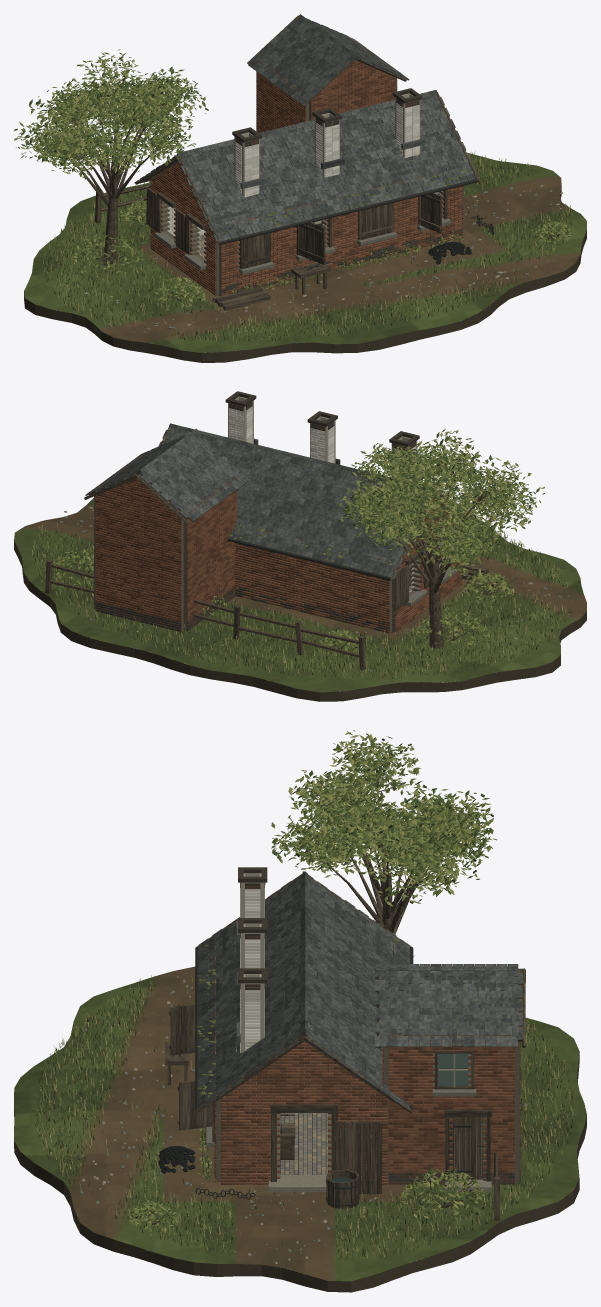
File: mushroom-green-forge.glb
3 views of the same model, one above another, from view 1: azimuth 30°, elevation 25°; view 2: azimuth 150°, elevation 25°; view 3: azimuth 270°, elevation 25° (orthographic). The views are drawn at different scales.
Parts seen in each view (by area): view 1: Ground | Turf and trodden earth, Earth edge | Earth cut, Foliage | Leaf 00, Foliage | Leaf 02, Foliage | Leaf 04, Foliage | Leaf 01, Foliage | Leaf 03, Roof tiles | Weathered slate 05, Roof tiles | Weathered slate 02, Roof tiles | Weathered slate 03, Roof tiles | Weathered slate 00, Roof tiles | Weathered slate 01 (+52 smaller); view 2: Ground | Turf and trodden earth, Foliage | Leaf 04, Earth edge | Earth cut, Foliage | Leaf 02, Foliage | Leaf 01, Foliage | Leaf 00, Foliage | Leaf 03, Meadow | Meadow blade 01, Meadow | Meadow blade 03, Roof tiles | Weathered slate 01, Roof tiles | Weathered slate 00, Meadow | Meadow blade 04 (+49 smaller); view 3: Ground | Turf and trodden earth, Earth edge | Earth cut, Foliage | Leaf 01, Foliage | Leaf 04, Foliage | Leaf 02, Foliage | Leaf 03, Foliage | Leaf 00, Roof tiles | Weathered slate 02, Roof tiles | Weathered slate 01, Roof tiles | Weathered slate 00, Roof tiles | Weathered slate 04, Roof tiles | Weathered slate 03 (+49 smaller).
Part boxes in pixels (box(x1,y1,x2,y2)): Ground | Turf and trodden earth: box(24, 152, 586, 352); Earth edge | Earth cut: box(24, 186, 586, 362); Foliage | Leaf 00: box(21, 52, 571, 304); Foliage | Leaf 02: box(14, 53, 572, 307); Foliage | Leaf 04: box(17, 55, 571, 306); Foliage | Leaf 01: box(17, 49, 569, 306); Foliage | Leaf 03: box(14, 57, 572, 305); Roof tiles | Weathered slate 05: box(196, 111, 476, 233); Roof tiles | Weathered slate 02: box(186, 105, 463, 242); Roof tiles | Weathered slate 03: box(134, 98, 469, 234); Roof tiles | Weathered slate 00: box(140, 105, 455, 236); Roof tiles | Weathered slate 01: box(172, 92, 470, 238); Ground | Turf and trodden earth: box(14, 498, 586, 692); Foliage | Leaf 04: box(52, 430, 534, 651); Earth edge | Earth cut: box(14, 540, 586, 701); Foliage | Leaf 02: box(52, 429, 544, 657); Foliage | Leaf 01: box(54, 435, 544, 652); Foliage | Leaf 00: box(52, 434, 539, 655); Foliage | Leaf 03: box(52, 432, 535, 658); Meadow | Meadow blade 01: box(34, 519, 571, 677); Meadow | Meadow blade 03: box(35, 523, 569, 678); Roof tiles | Weathered slate 01: box(169, 427, 433, 574); Roof tiles | Weathered slate 00: box(219, 444, 429, 568); Meadow | Meadow blade 04: box(32, 517, 570, 678); Ground | Turf and trodden earth: box(14, 966, 586, 1281); Earth edge | Earth cut: box(14, 1051, 586, 1292); Foliage | Leaf 01: box(129, 731, 491, 1232); Foliage | Leaf 04: box(128, 734, 492, 1232); Foliage | Leaf 02: box(129, 730, 497, 1228); Foliage | Leaf 03: box(128, 736, 491, 1227); Foliage | Leaf 00: box(129, 739, 493, 1230); Roof tiles | Weathered slate 02: box(198, 880, 410, 1106); Roof tiles | Weathered slate 01: box(198, 872, 410, 1097); Roof tiles | Weathered slate 00: box(198, 879, 400, 1096); Roof tiles | Weathered slate 04: box(198, 877, 410, 1106); Roof tiles | Weathered slate 03: box(198, 881, 410, 1107).
Bounding box in the file's own units: 19.74 × 7.01 × 14.42.
45 materials, 14 textured.
